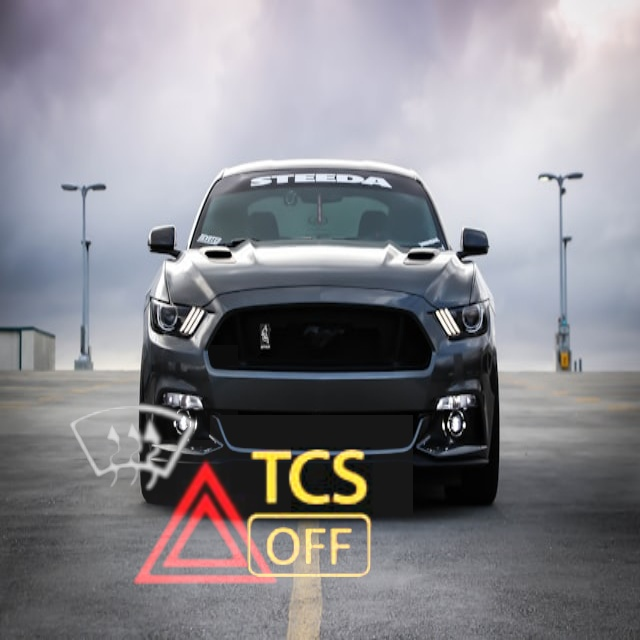symbol: (30, 345, 238, 553), (210, 415, 413, 618), (123, 440, 291, 608)
